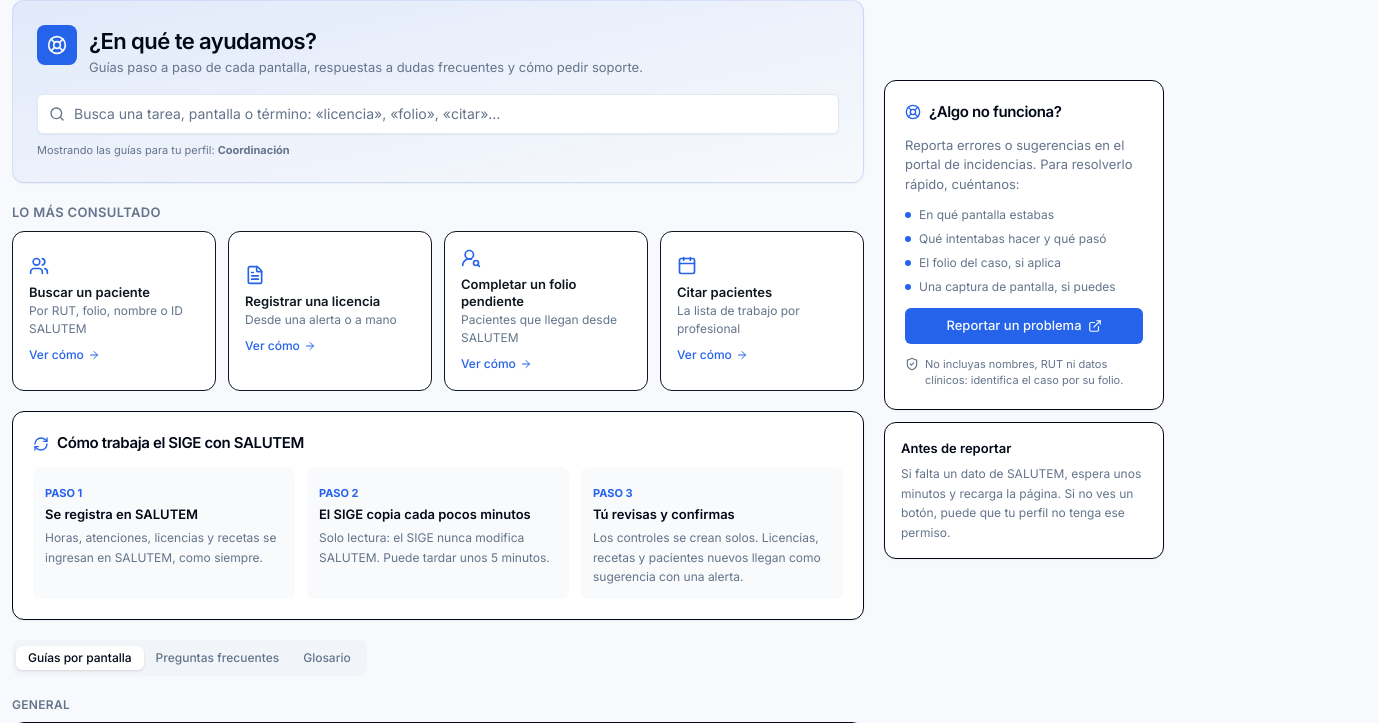
Test case: AyudaPage (COMP-2609-01) › la búsqueda ignora tildes y recorre guías, preguntas y glosario
This screenshot has width=1378, height=723.
In the field named "Buscar en la ayuda": (438, 114) x1=37 y1=94 x2=839 y2=134, type "farmacos"
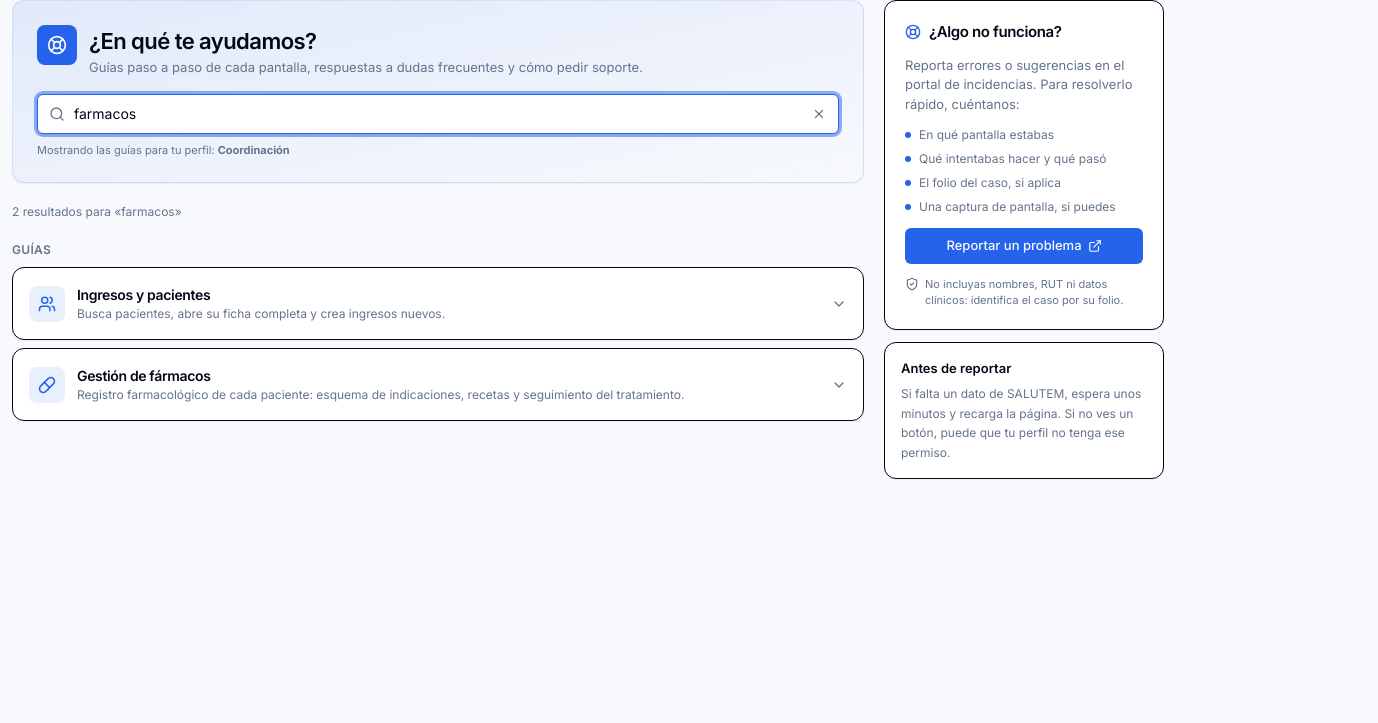
Expected: the button "Gestión de fármacos" is shown, x1=13 y1=349 x2=863 y2=420
Expected: the text "2 resultados para «farmacos»" is shown, x1=12 y1=204 x2=182 y2=219
Expected: the tab "Glosario" is gone
Replace the text in the field named "Buscar en la ayuda" with "xyzzy": (438, 114) x1=37 y1=94 x2=839 y2=134
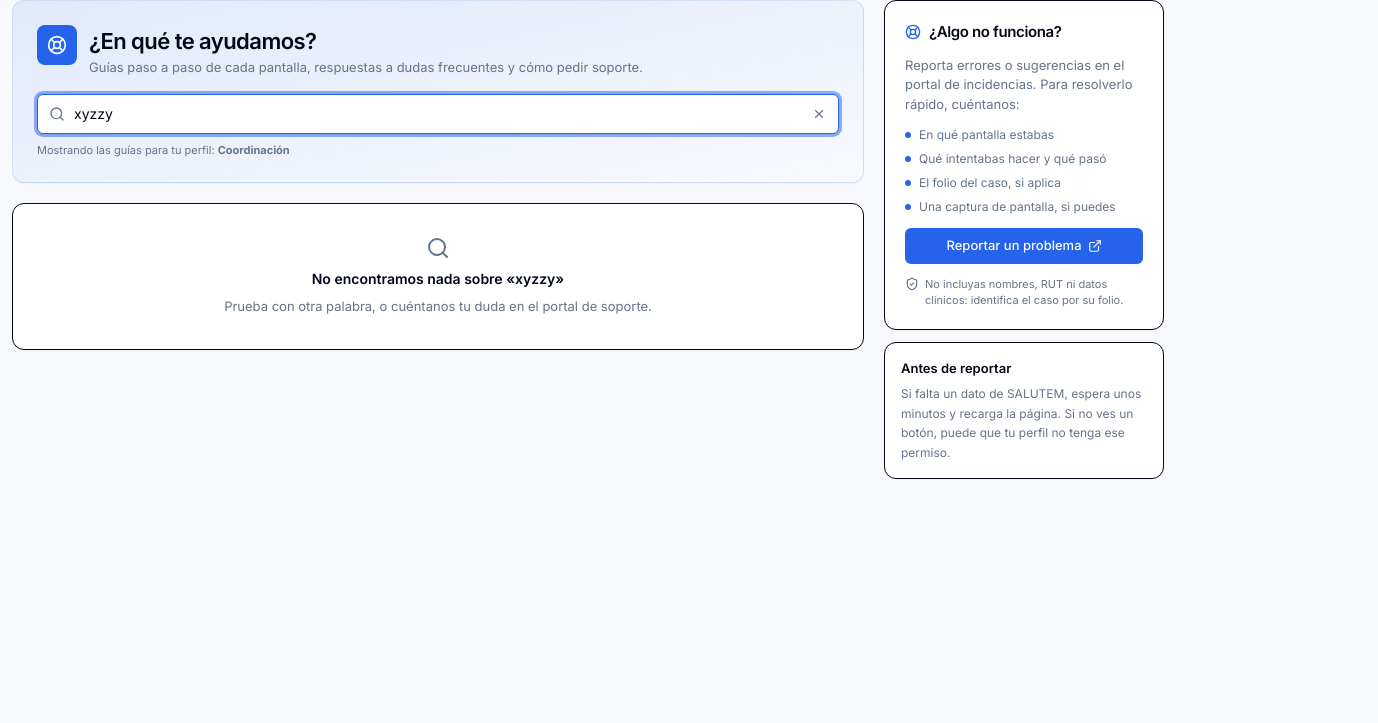
Expected: the text "No encontramos nada sobre «xyzzy»" is shown, x1=312 y1=270 x2=564 y2=287
